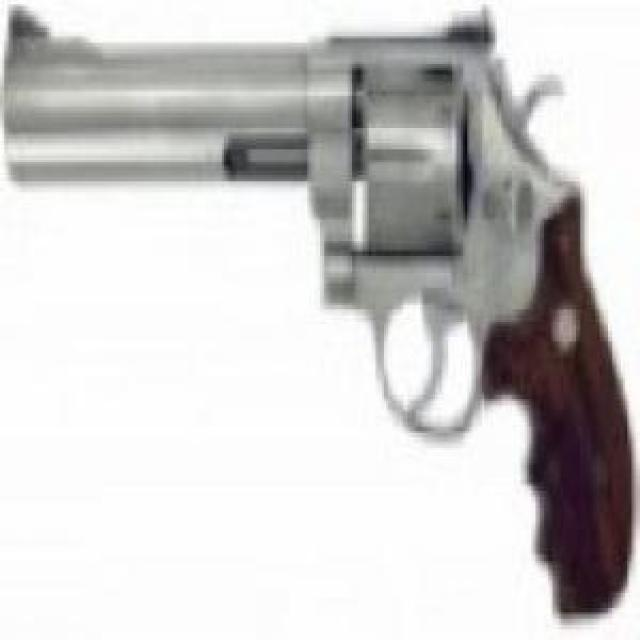pistol: (9, 6, 616, 620)
